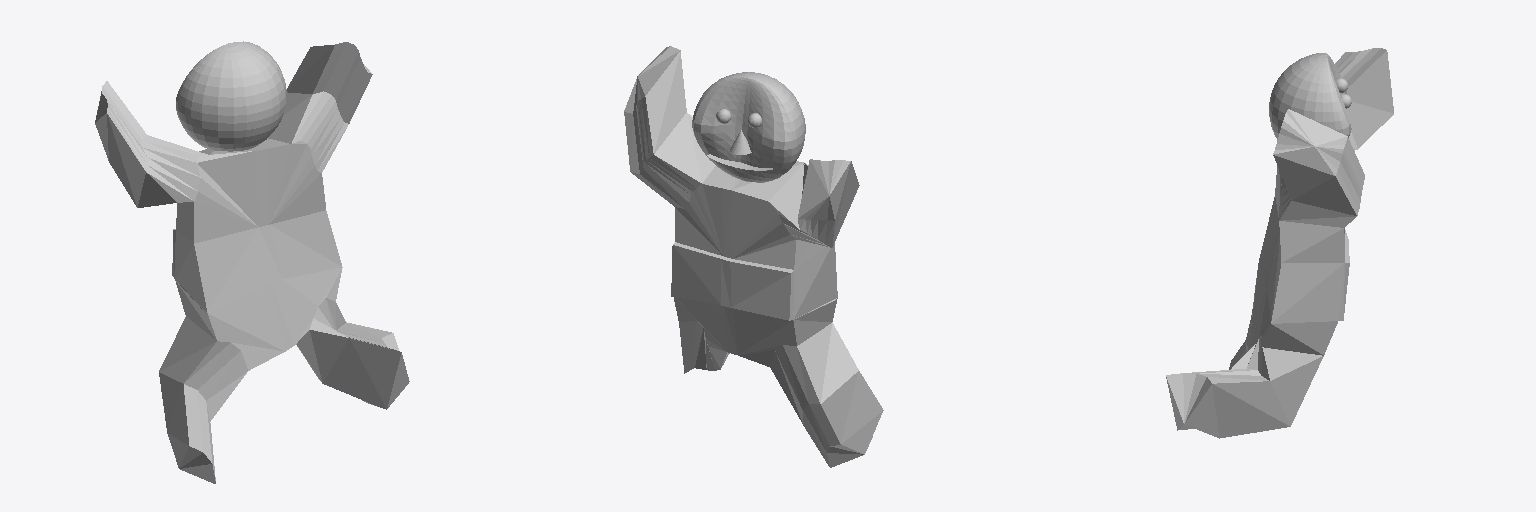
Rendered from manjump_000020.obj.
The picture shows the model from 3 angles: view 1: azimuth 30°, elevation 25°; view 2: azimuth 150°, elevation 25°; view 3: azimuth 270°, elevation 25°; orthographic projection.
Visible parts, largest first — view 1: Cube; view 2: Cube; view 3: Cube.
Boxes of the visible parts, x1,y1,x2,y2 form: Cube: [95, 41, 409, 483]; Cube: [624, 46, 883, 467]; Cube: [1166, 48, 1393, 438].
Size of the model in its own units: 76.86 by 124 by 65.44.